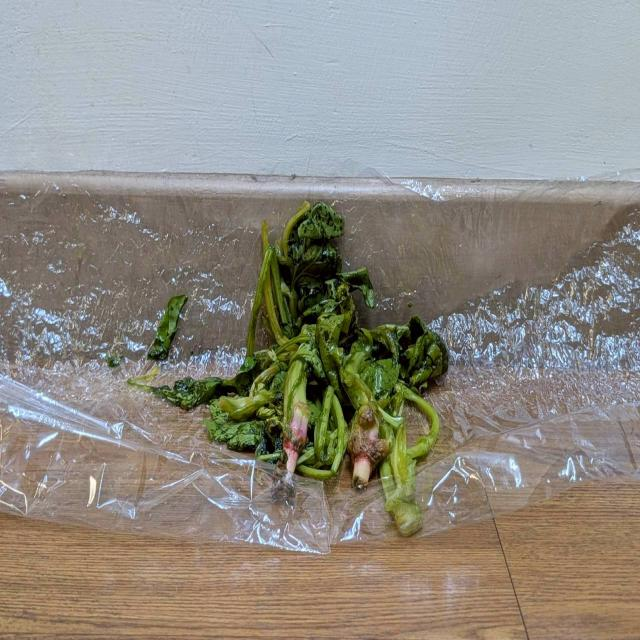rotten spinach: (106, 184, 461, 544), (238, 201, 354, 516), (328, 283, 466, 546), (102, 251, 201, 408)
